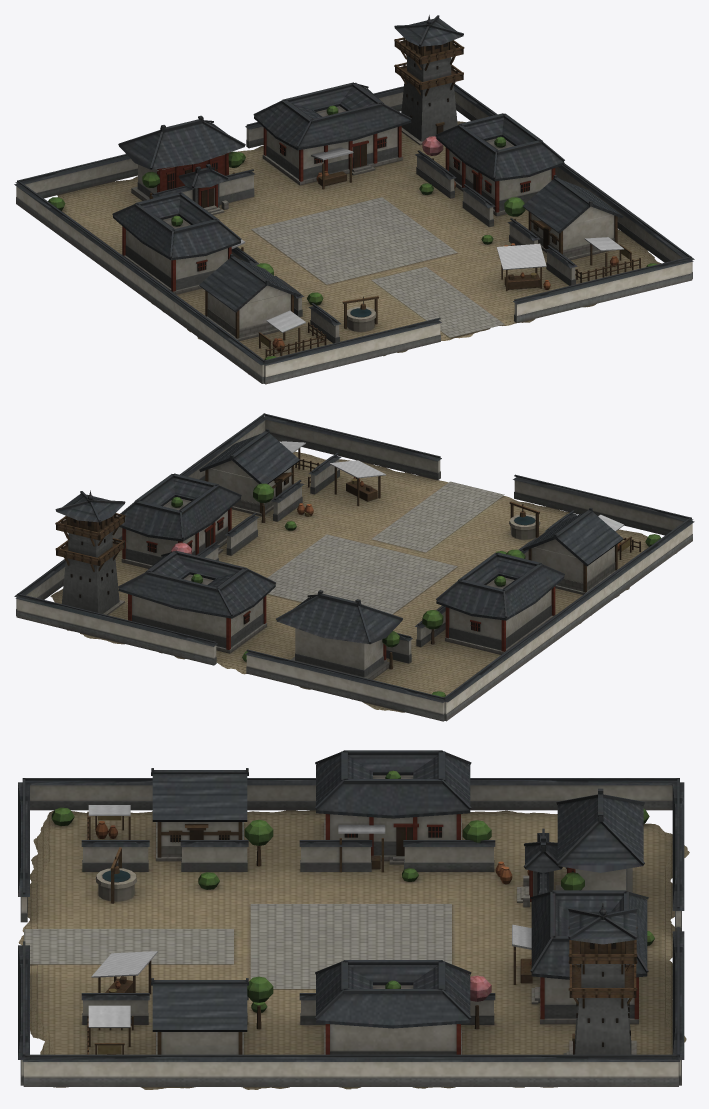
File: classical-town-small-b-sinic.glb
3 renders of one model, top to bottom at view 1: azimuth 30°, elevation 25°; view 2: azimuth 150°, elevation 25°; view 3: azimuth 270°, elevation 25°, orthographic. The views are drawn at different scales.
Visible parts, largest first — view 1: LOD0; view 2: LOD0; view 3: LOD0.
Boxes of the visible parts, x1,y1,x2,y2 form: LOD0: (14,15,694,384); LOD0: (14,413,694,721); LOD0: (18,750,689,1089).
Size of what is drawn, in the model's own units: 4.02 by 1.05 by 4.06.
3 materials, 3 textured.
